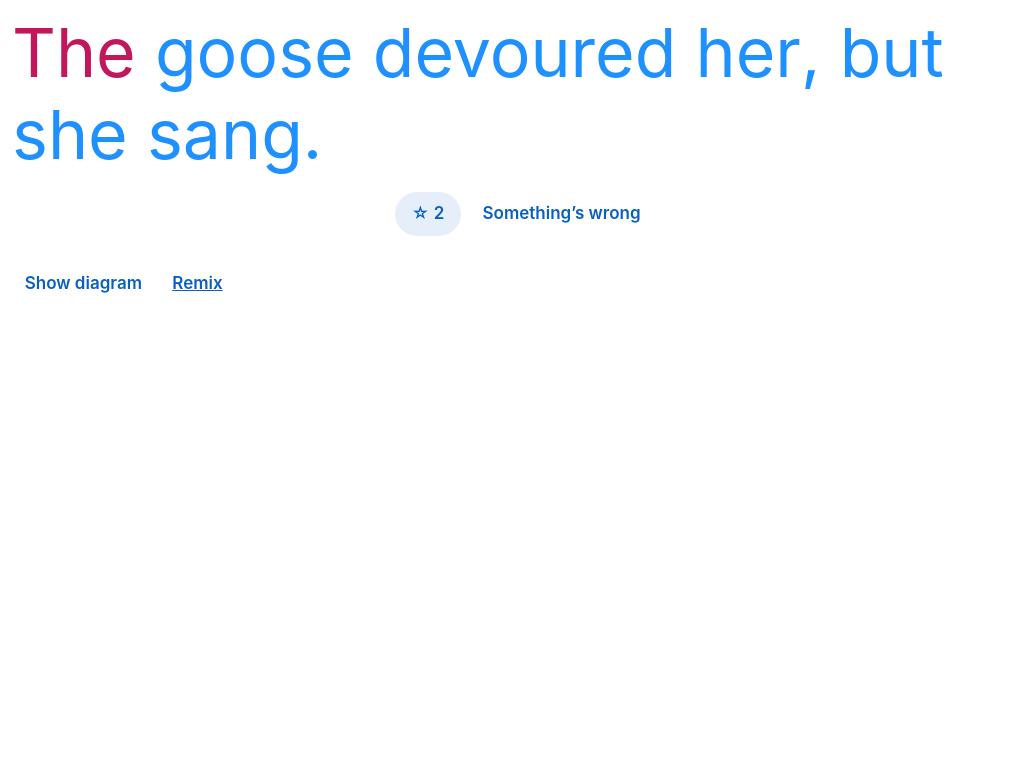
Test: SentenceView › opens the flag form on the selected word
Click the button "goose" at (254, 53), box [155,12,354,94]
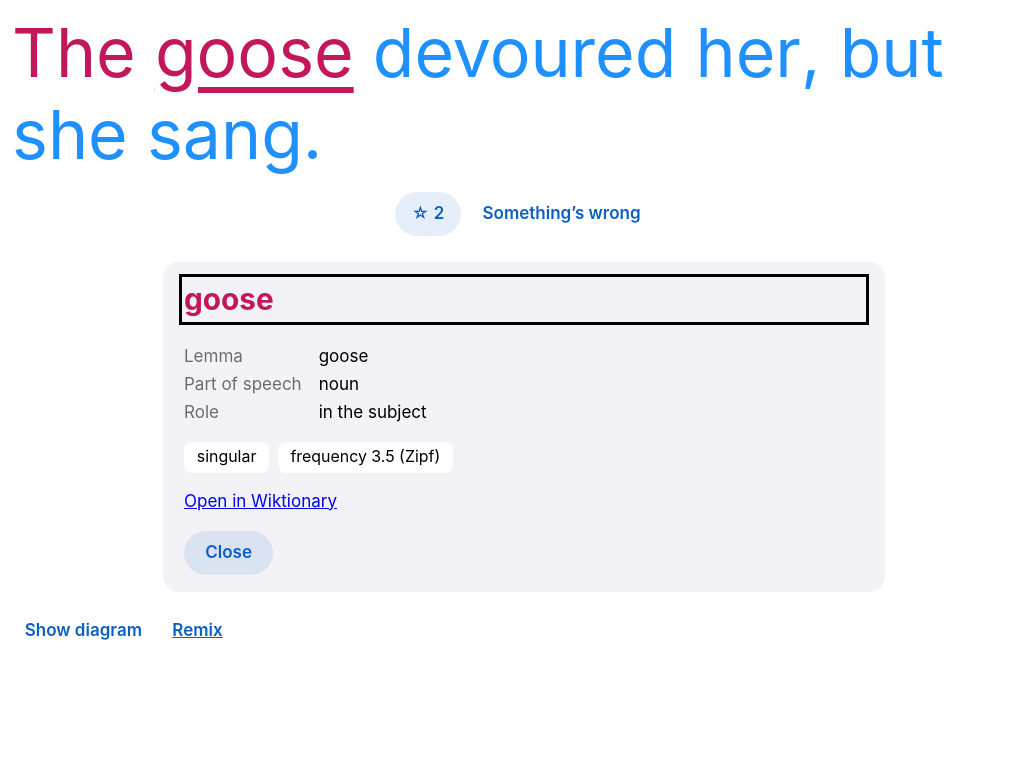
Click the button "Something’s wrong" at (562, 214), box [470,192,653,236]
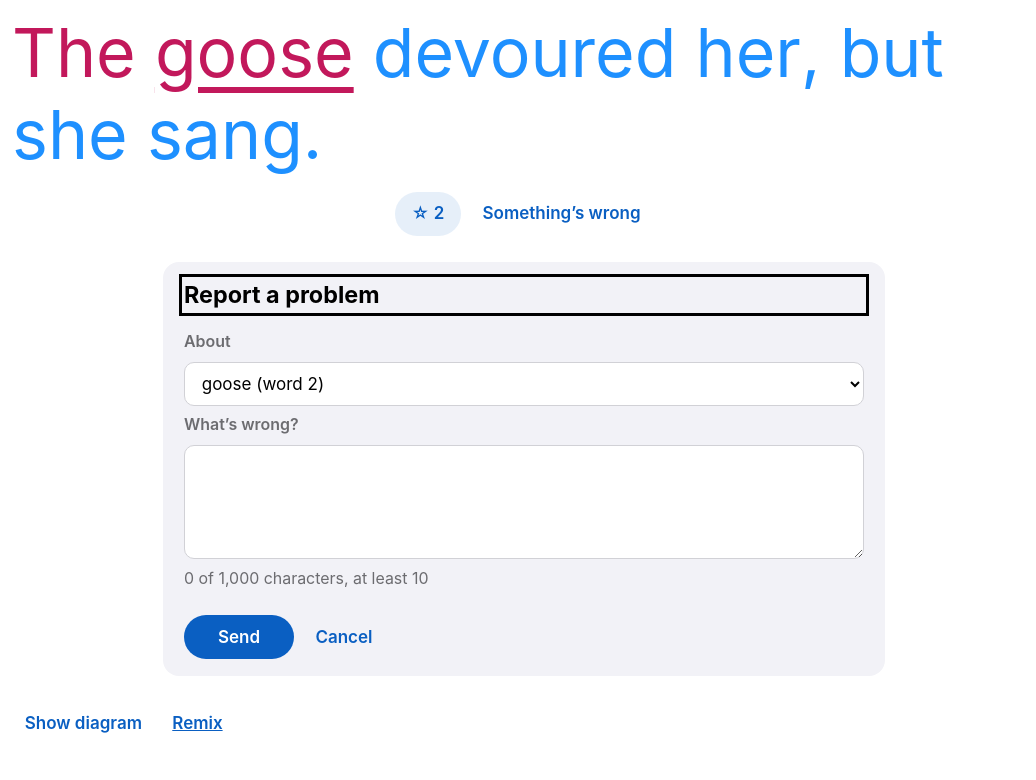
Now the dropdown labelled "About" shows "goose (word 2)", box [184,362,864,406]
